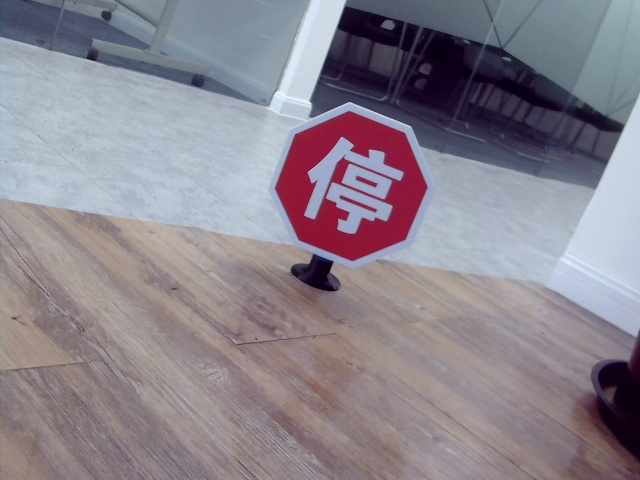stop: (306, 130, 400, 238)
